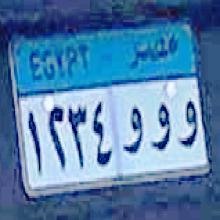1: (28, 108, 43, 182)
2: (46, 102, 68, 176)
3: (66, 97, 90, 175)
4: (90, 97, 114, 173)
waw: (175, 90, 199, 152), (148, 100, 172, 156), (122, 102, 144, 160)
